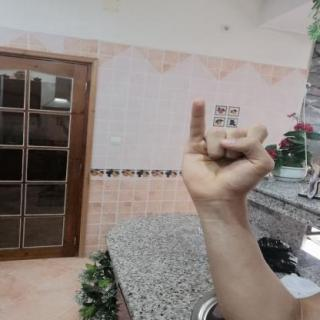MEEM: (168, 93, 290, 211)
